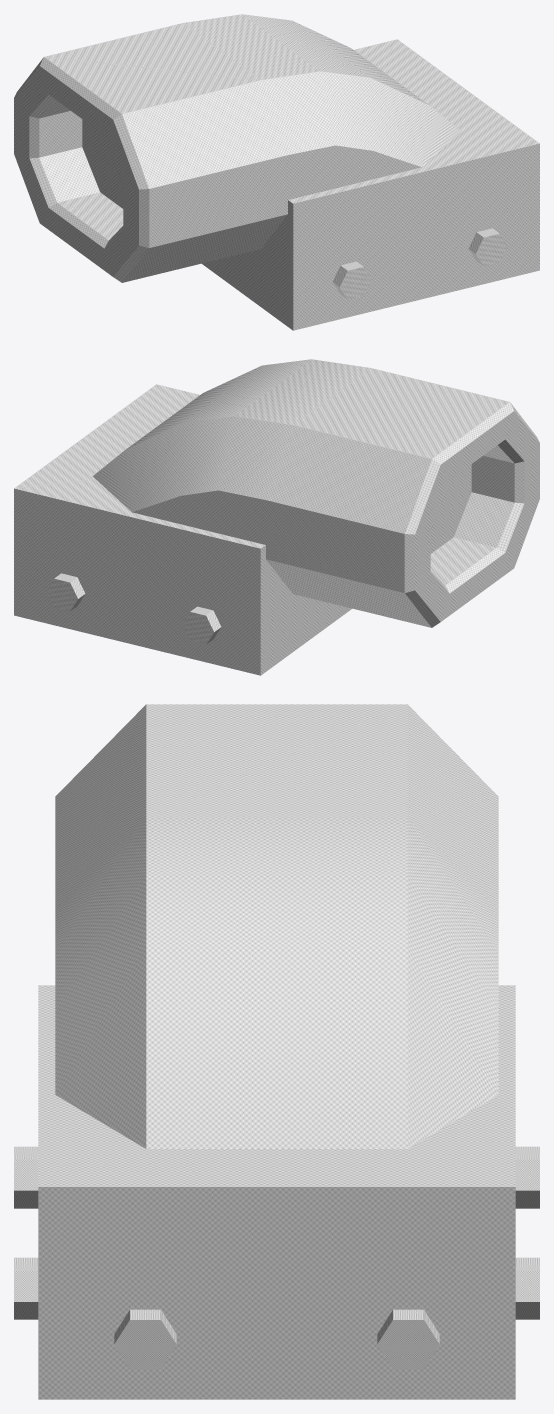
Rendered from Thruster.dae.
The picture shows the model from 3 angles, top to bottom: view 1: azimuth 30°, elevation 25°; view 2: azimuth 150°, elevation 25°; view 3: azimuth 270°, elevation 25°; orthographic projection. The views are drawn at different scales.
Parts seen in each view (by area): view 1: Thruster; view 2: Thruster; view 3: Thruster.
Boxes of the visible parts, x1,y1,x2,y2 form: Thruster: [14, 14, 539, 330]; Thruster: [14, 359, 539, 675]; Thruster: [14, 704, 539, 1399].
Size of the model in its own units: 2.98 by 1.59 by 2.
